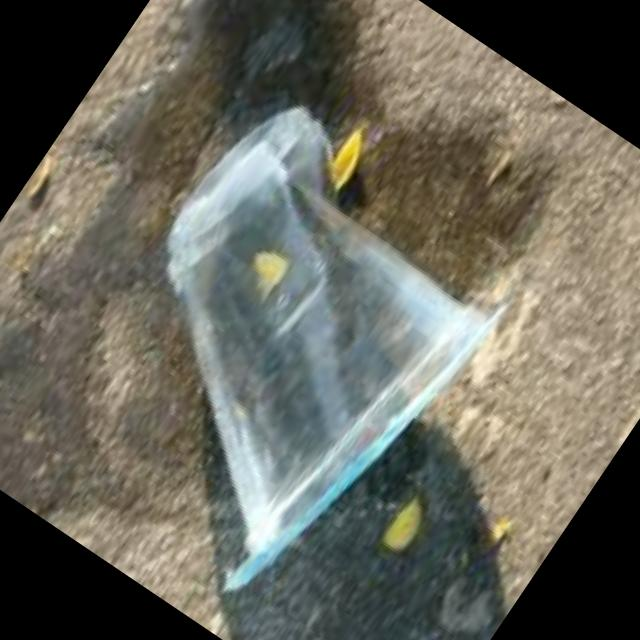GelasPlastik: (14, 73, 544, 638)
